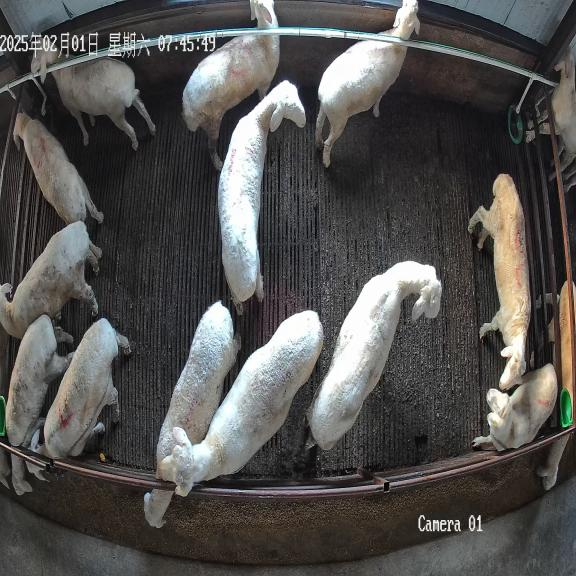drinking: (13, 112, 104, 223)
eating: (5, 314, 73, 495)
stand: (162, 310, 323, 497), (308, 261, 442, 450), (144, 301, 241, 528), (218, 81, 305, 314), (315, 0, 420, 168), (25, 318, 126, 480), (183, 0, 279, 170), (27, 35, 155, 150), (468, 174, 531, 390), (0, 221, 102, 339), (473, 364, 557, 451)
